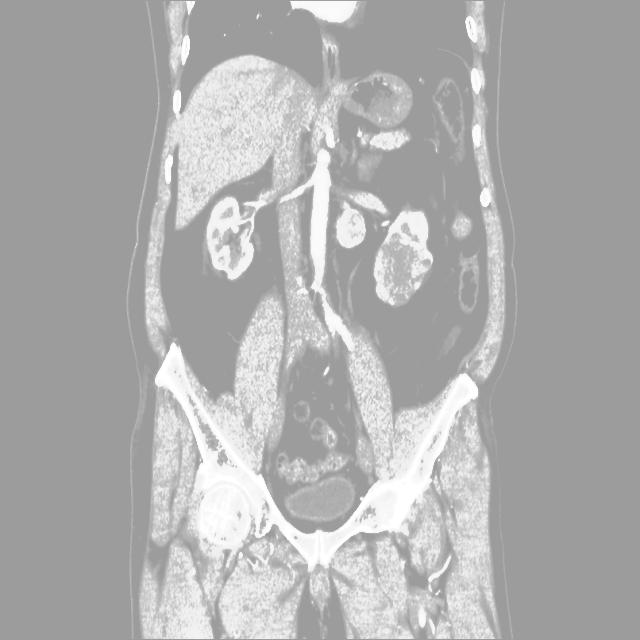TUMOR: (142, 86, 520, 290)
